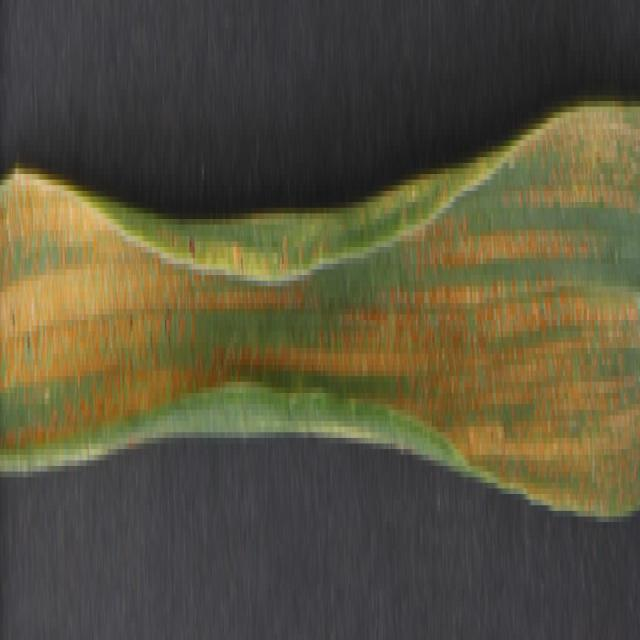leaf rust: (1, 90, 640, 528)
